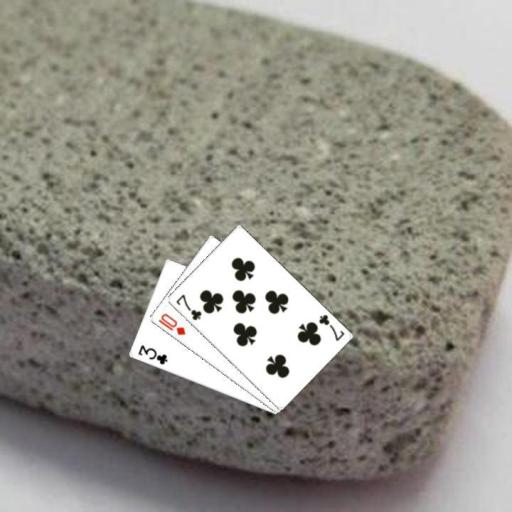10D: (155, 310, 187, 337)
3C: (135, 342, 169, 367)
7C: (315, 311, 346, 343), (172, 291, 203, 322)
